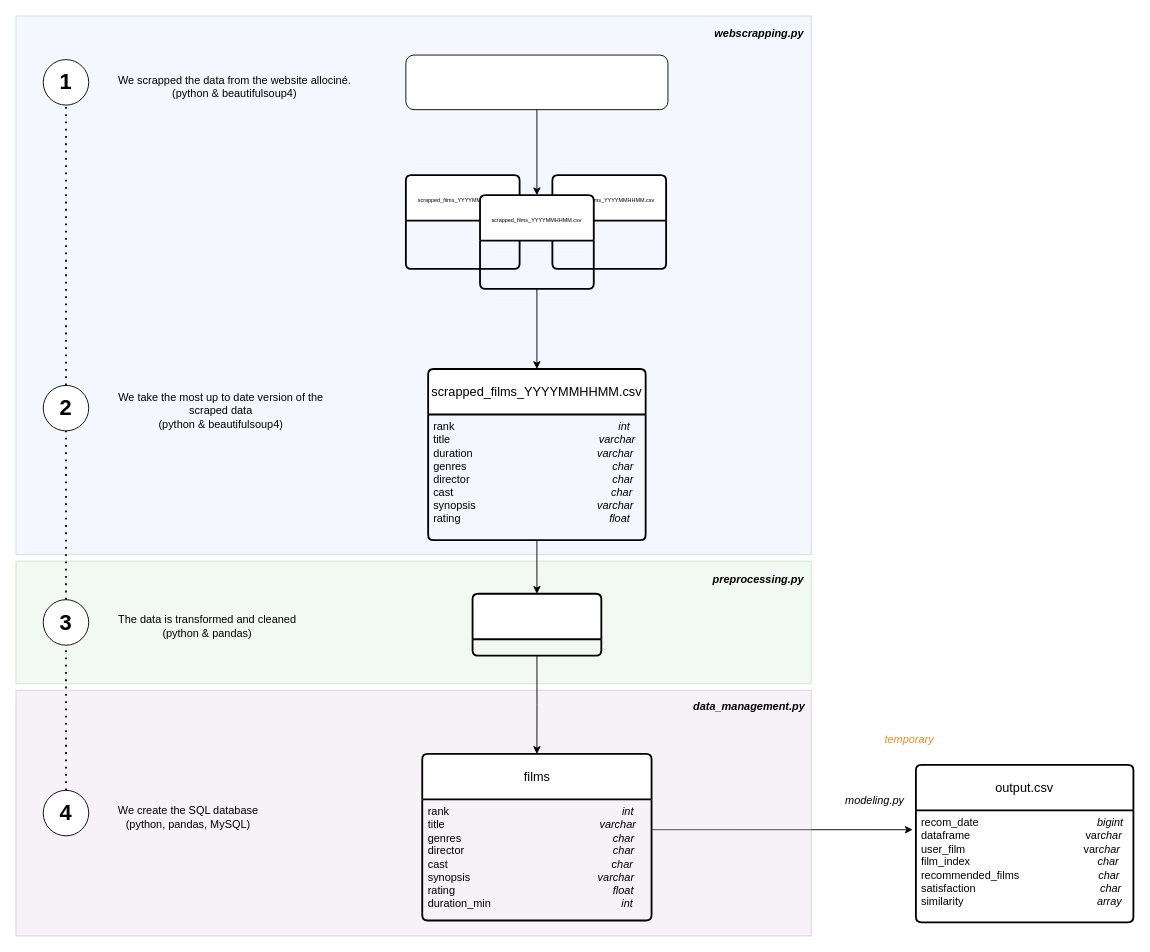
Image size: 1150x952. Some labels were removed from this diagram. Here are the shapes that lost their labels. From the top down, the centre of each, then its label:
point 536,82: https://www.allocine.fr/film/meilleurs/
point 536,624: df_preprocessed
